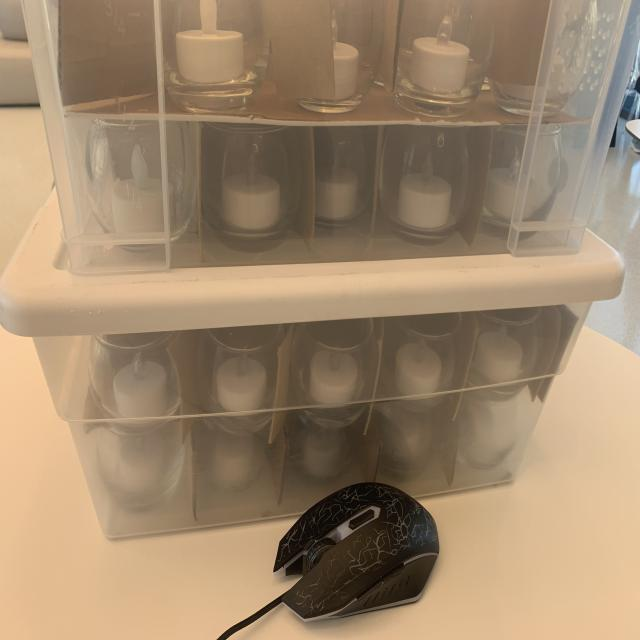Mouse: (270, 479, 448, 626)
